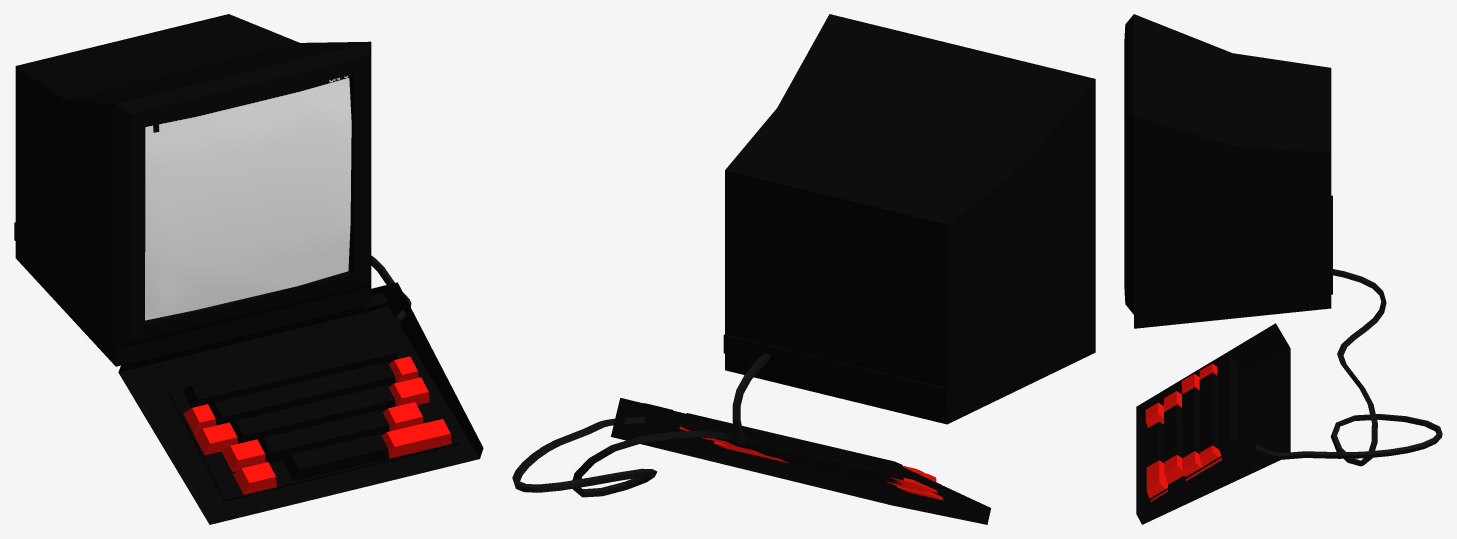
File: thesystemgarden.glb
3 renders of one model, left to right at view 1: azimuth 30°, elevation 25°; view 2: azimuth 150°, elevation 25°; view 3: azimuth 270°, elevation 25°, orthographic. The views are drawn at different scales.
Visible parts, largest first — view 1: screen, oric, videotarget, button; view 2: screen, oric, cable; view 3: screen, oric, cable.
Boxes of the visible parts, x1=… form: screen: x1=14, y1=14, x2=371, y2=366; oric: x1=118, y1=282, x2=483, y2=524; videotarget: x1=145, y1=75, x2=351, y2=320; button: x1=233, y1=462, x2=276, y2=494; screen: x1=723, y1=14, x2=1095, y2=424; oric: x1=611, y1=398, x2=990, y2=524; cable: x1=512, y1=353, x2=770, y2=497; screen: x1=1124, y1=14, x2=1332, y2=328; oric: x1=1136, y1=323, x2=1290, y2=524; cable: x1=1254, y1=269, x2=1442, y2=466.
Bounding box in the file's own units: 2.2 × 2.39 × 1.89.
4 materials, 1 textured.
